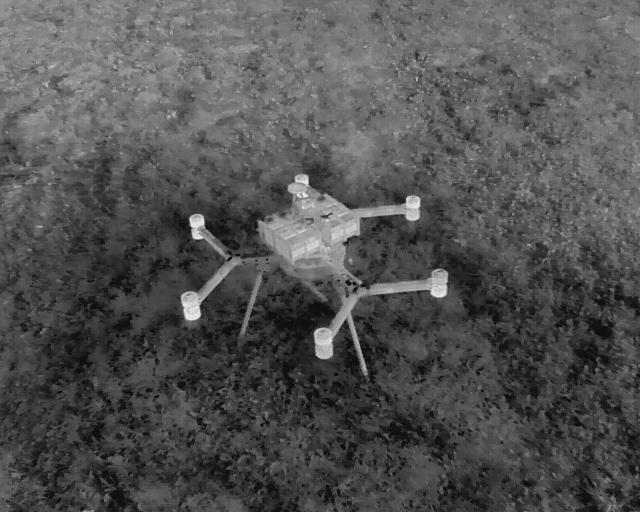drone: (133, 155, 476, 390)
